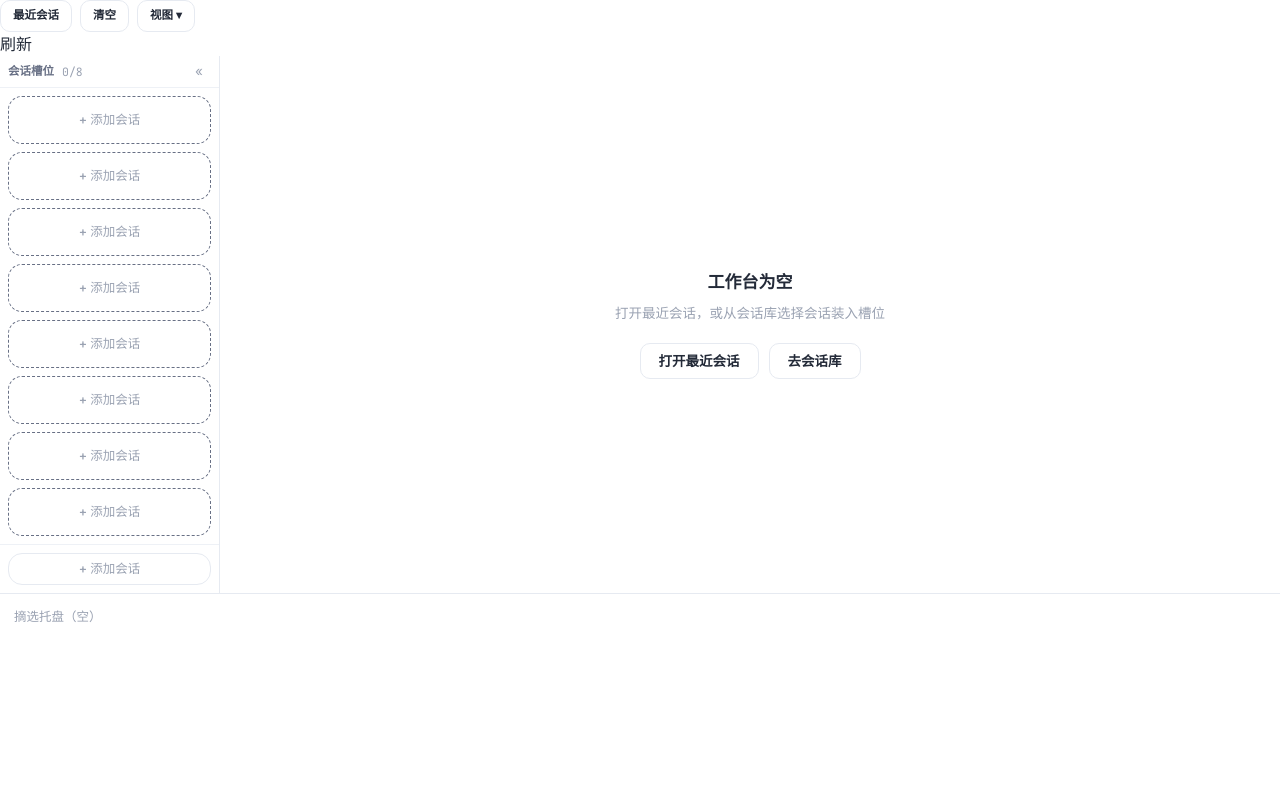
Test case: WorkspaceView (t224) › recent：按日期倒序、上限 8、顺序角标、未选时确认 disabled
Click the button "最近会话" at (36, 16), box [0,0,72,32]
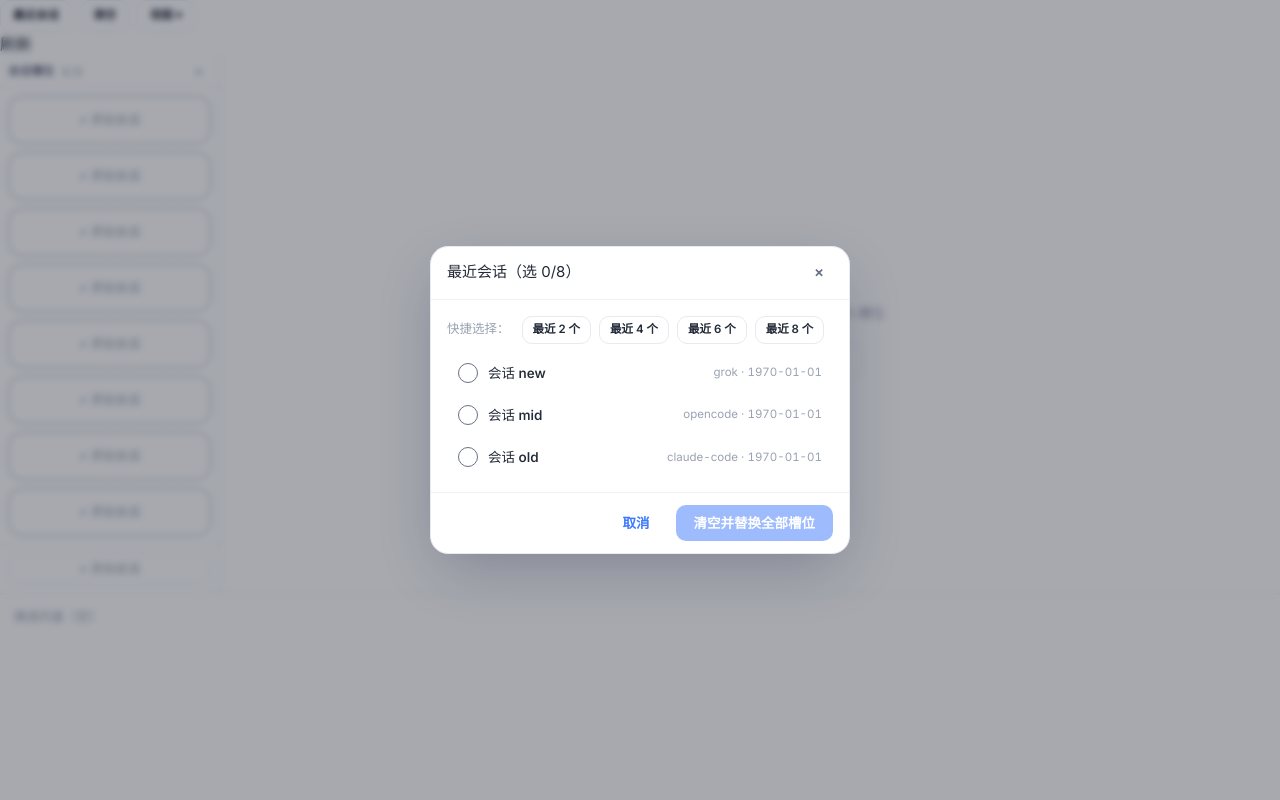
Expected: the dialog "最近会话" is shown
Expected: the button "清空并替换全部槽位" is disabled, [676,505,833,541]
Click the button with test id "session-recent-row" at (517, 373), box [447,354,833,392]
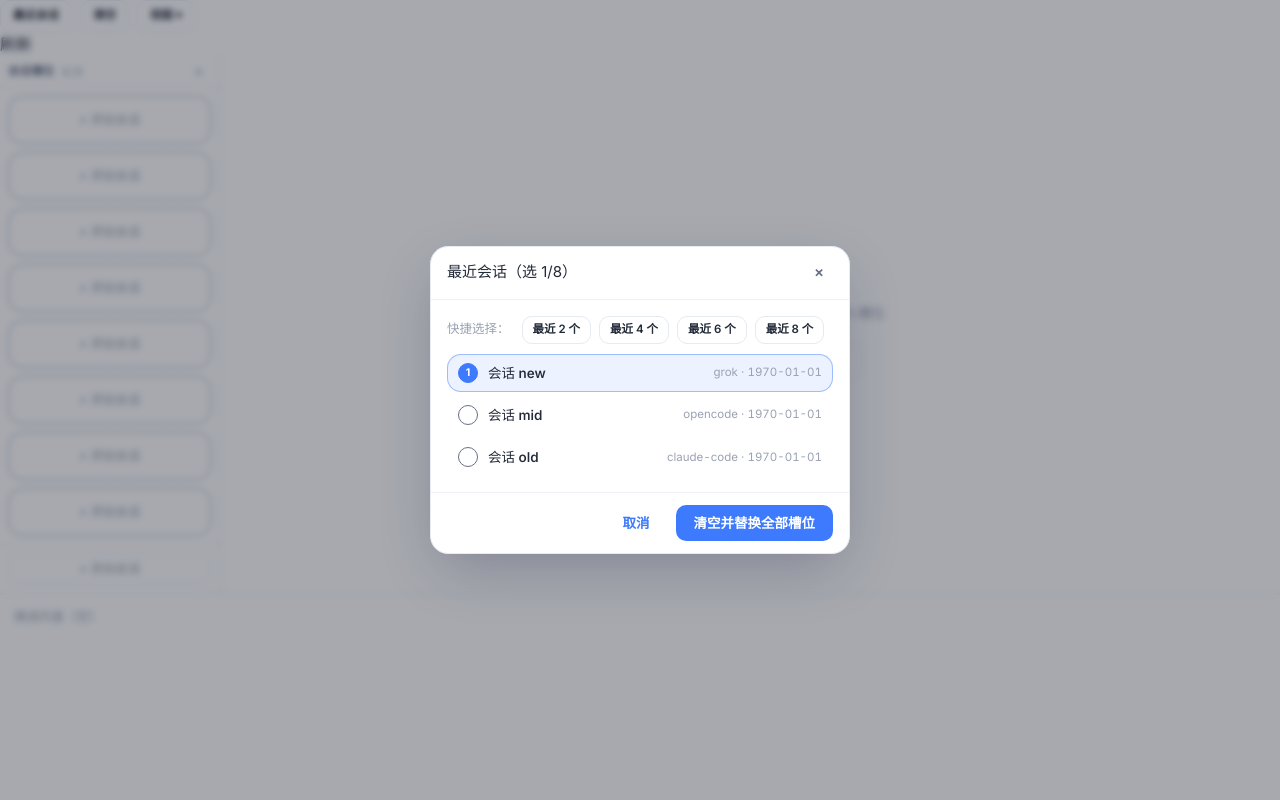
Click the button with test id "session-recent-row" at (515, 415), box [447,396,833,434]
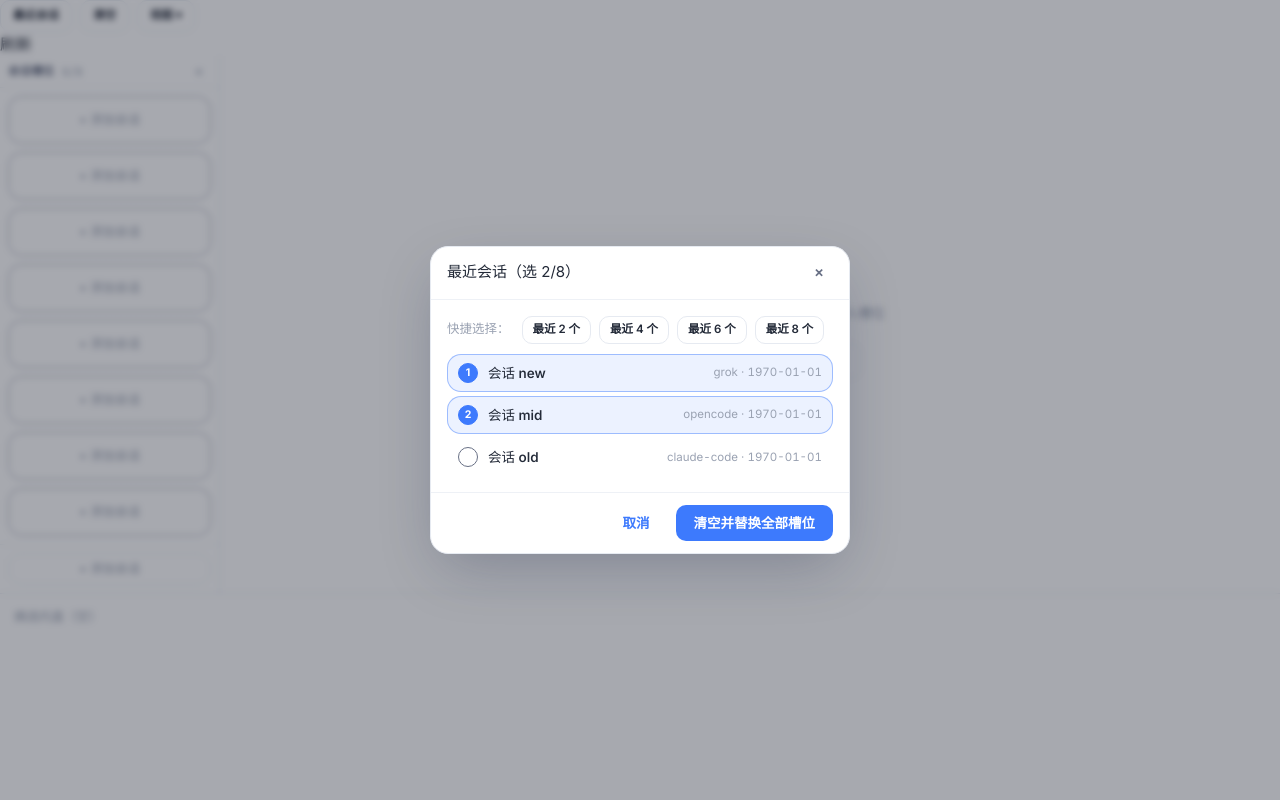
Expected: the text "最近会话（选 2/8）" is shown, [447,261,580,284]
